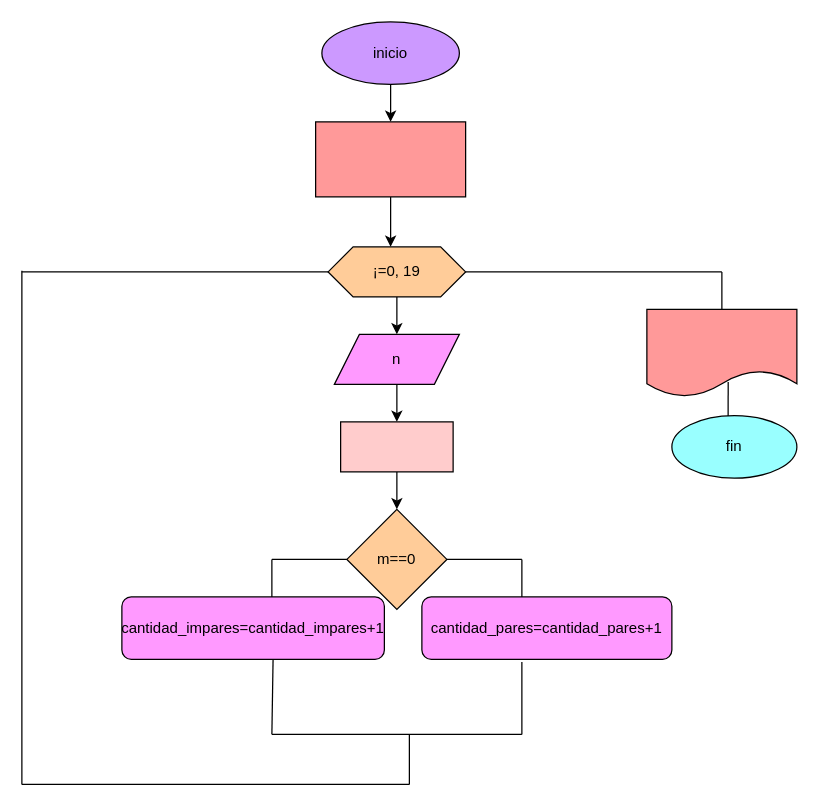
Image size: 819x808. Some labels were removed from this diagram. The shapes that lost their labels are listed below. From the top down, each one's centre as x and y in pixels, then its label:
(390,159): cantidad_pares=0 cantidad_impares=0
(721,352): cant_pares cant_impares
(396,446): M=n%2
